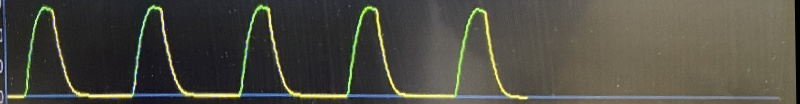normal_volume: (0, 0, 541, 104)
